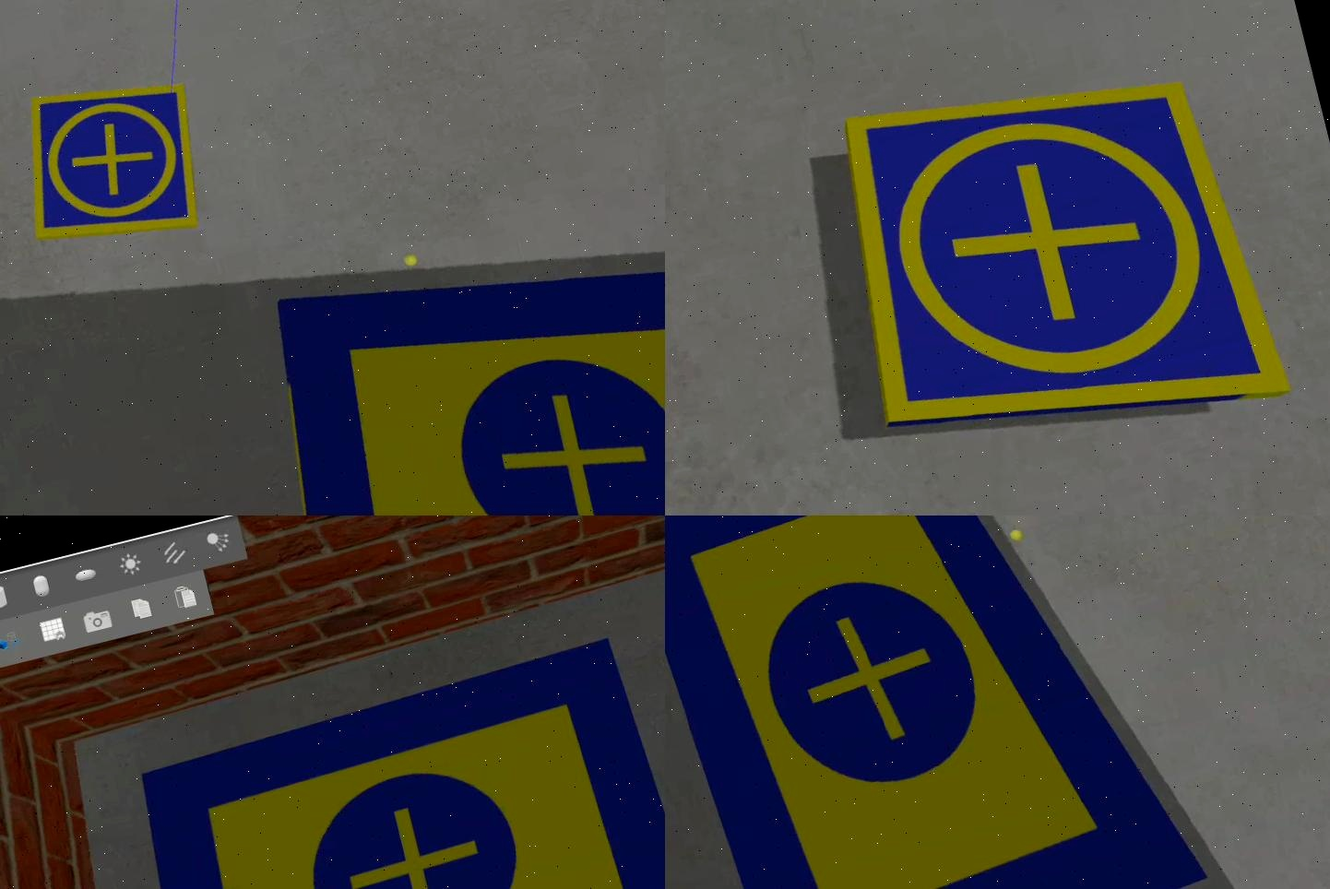large_base: (666, 516, 1220, 889), (230, 181, 666, 516), (111, 631, 666, 889)
small_base: (813, 26, 1300, 493), (2, 58, 225, 273)
